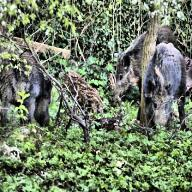boar: (104, 24, 174, 104), (144, 46, 191, 134)
